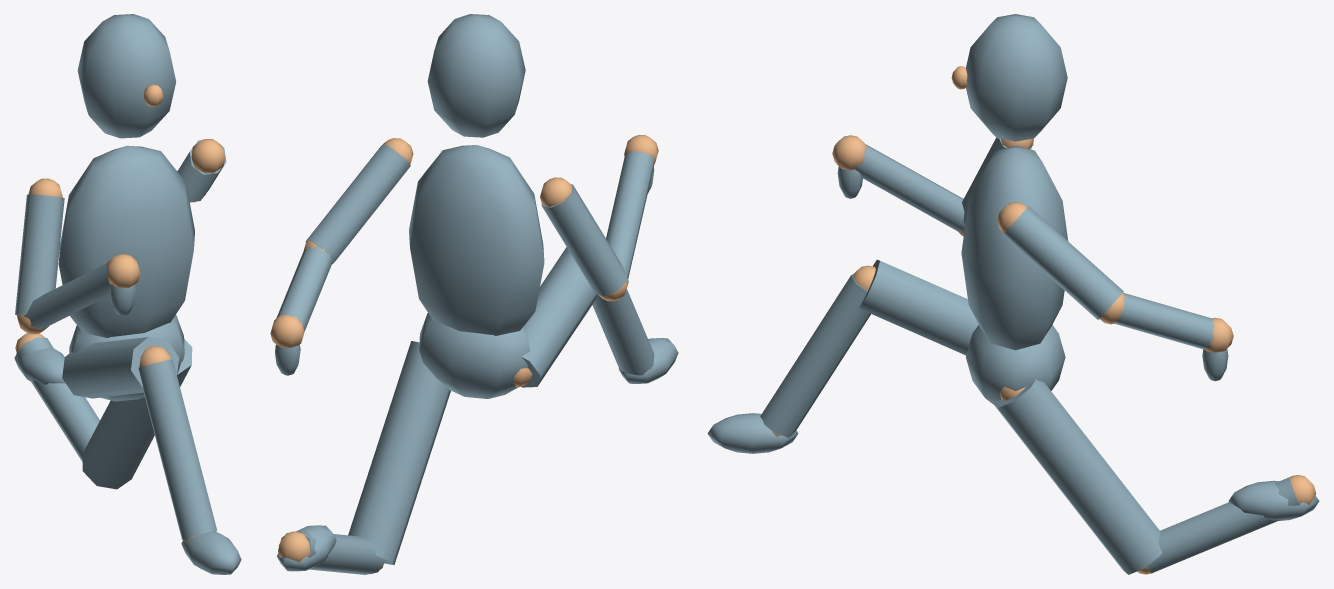
The model's file is pose-running-3d.glb.
The picture shows the model from 3 angles, left to right: view 1: azimuth 30°, elevation 25°; view 2: azimuth 150°, elevation 25°; view 3: azimuth 270°, elevation 25°; orthographic projection. The views are drawn at different scales.
Parts seen in each view (by area): view 1: rib-cage, head, left-shin, right-thigh, left-thigh, left-upper-arm, right-shin, left-forearm, foot-la, pelvis, foot-ra, right-upper-arm (+6 smaller); view 2: rib-cage, right-thigh, head, pelvis, left-thigh, right-upper-arm, left-upper-arm, left-forearm, left-shin, right-forearm, right-shin, foot-ra (+6 smaller); view 3: rib-cage, right-thigh, head, left-shin, left-thigh, right-upper-arm, pelvis, right-shin, left-forearm, right-forearm, foot-la, foot-ra (+1 smaller).
Part boxes in pixels (x1=…): rib-cage: x1=58, y1=145, x2=194, y2=337; head: x1=77, y1=14, x2=176, y2=138; left-shin: x1=138, y1=359, x2=217, y2=539; right-thigh: x1=82, y1=339, x2=192, y2=489; left-thigh: x1=62, y1=337, x2=179, y2=398; left-upper-arm: x1=15, y1=194, x2=64, y2=314; right-shin: x1=16, y1=337, x2=99, y2=461; left-forearm: x1=24, y1=263, x2=113, y2=329; foot-la: x1=181, y1=531, x2=241, y2=574; pelvis: x1=69, y1=315, x2=184, y2=401; foot-ra: x1=14, y1=347, x2=65, y2=384; right-upper-arm: x1=177, y1=139, x2=226, y2=202; rib-cage: x1=409, y1=145, x2=544, y2=335; right-thigh: x1=348, y1=341, x2=450, y2=564; head: x1=427, y1=14, x2=525, y2=137; pelvis: x1=419, y1=313, x2=530, y2=398; left-thigh: x1=521, y1=247, x2=598, y2=387; right-upper-arm: x1=305, y1=144, x2=410, y2=262; left-upper-arm: x1=541, y1=184, x2=627, y2=295; left-forearm: x1=606, y1=151, x2=654, y2=278; left-shin: x1=592, y1=289, x2=654, y2=375; right-forearm: x1=276, y1=246, x2=333, y2=330; right-shin: x1=278, y1=530, x2=384, y2=574; foot-ra: x1=277, y1=525, x2=336, y2=571; rib-cage: x1=961, y1=145, x2=1068, y2=350; right-thigh: x1=993, y1=379, x2=1161, y2=574; head: x1=966, y1=14, x2=1067, y2=141; left-shin: x1=760, y1=273, x2=870, y2=437; left-thigh: x1=859, y1=259, x2=978, y2=355; right-upper-arm: x1=1003, y1=206, x2=1123, y2=319; pelvis: x1=966, y1=325, x2=1065, y2=404; right-shin: x1=1147, y1=477, x2=1299, y2=573; left-forearm: x1=855, y1=144, x2=965, y2=232; right-forearm: x1=1115, y1=292, x2=1214, y2=349; foot-la: x1=707, y1=413, x2=798, y2=453; foot-ra: x1=1228, y1=480, x2=1319, y2=520.
Size of the model in its own units: 0.695 by 1.36 by 1.41.
